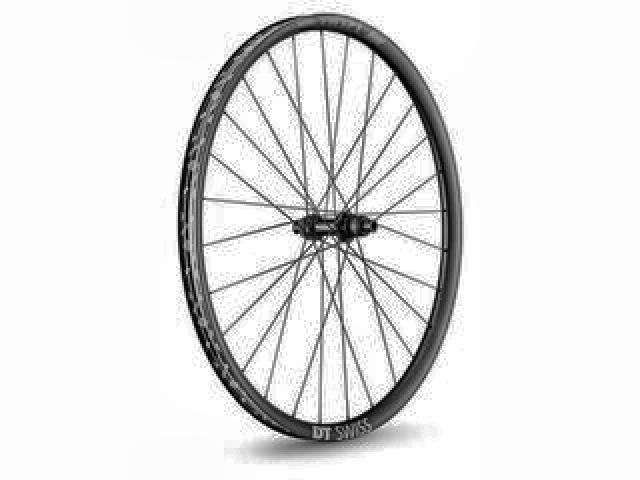wheel: (173, 10, 470, 455)
